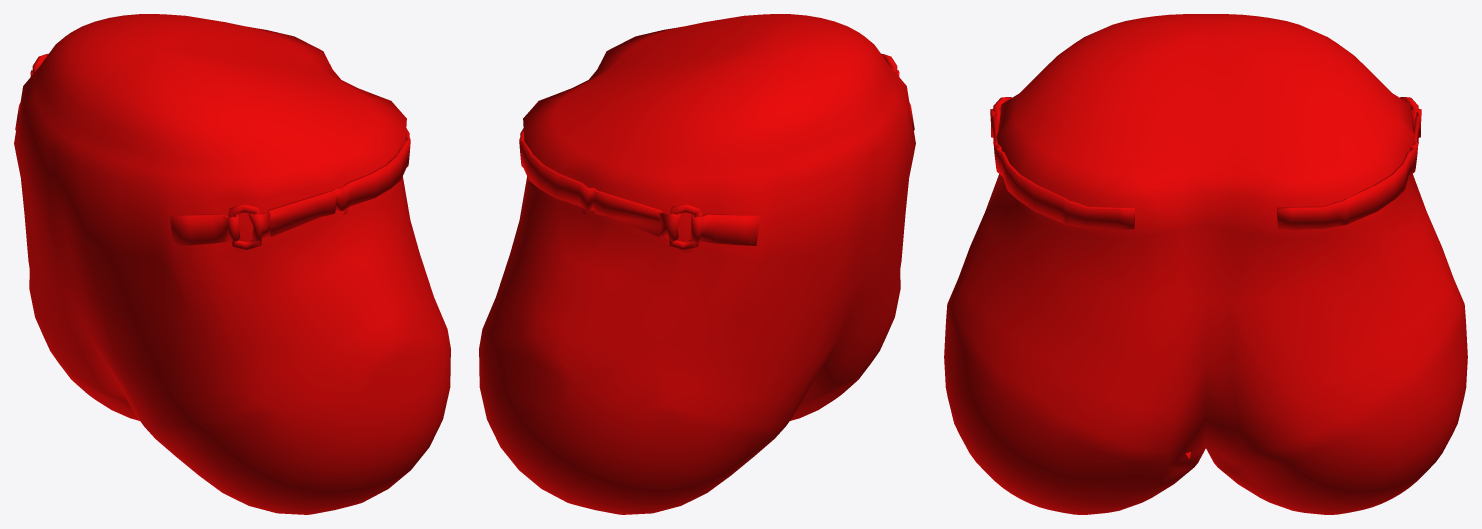
The model's file is character_Completed.dae.
The picture shows the model from 3 angles, left to right: view 1: azimuth 30°, elevation 25°; view 2: azimuth 150°, elevation 25°; view 3: azimuth 270°, elevation 25°; orthographic projection.
Visible parts, largest first — view 1: TorsoLower; view 2: TorsoLower; view 3: TorsoLower.
Boxes of the visible parts, x1=… form: TorsoLower: x1=14, y1=14, x2=450, y2=514; TorsoLower: x1=479, y1=14, x2=915, y2=514; TorsoLower: x1=944, y1=14, x2=1467, y2=514.
Size of the model in its own units: 0.2224 by 0.3036 by 0.2747.
